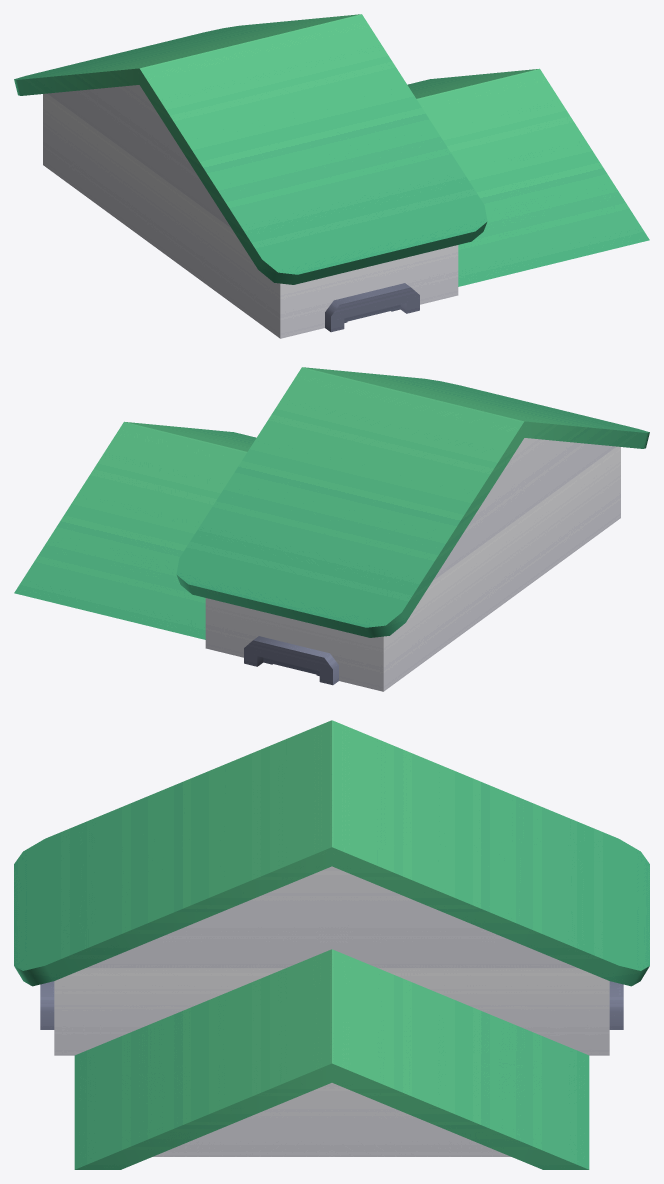
File: suburban-c.glb
3 renders of one model, top to bottom at view 1: azimuth 30°, elevation 25°; view 2: azimuth 150°, elevation 25°; view 3: azimuth 270°, elevation 25°, orthographic. The views are drawn at different scales.
Visible parts, largest first — view 1: building-type-c; view 2: building-type-c; view 3: building-type-c.
Part boxes in pixels (x1,y1,x2,y2): building-type-c: [14, 14, 649, 338]; building-type-c: [14, 367, 649, 691]; building-type-c: [14, 720, 649, 1169].
Size of the model in its own units: 9.1 by 4.1 by 10.69.
1 material, 1 textured.
